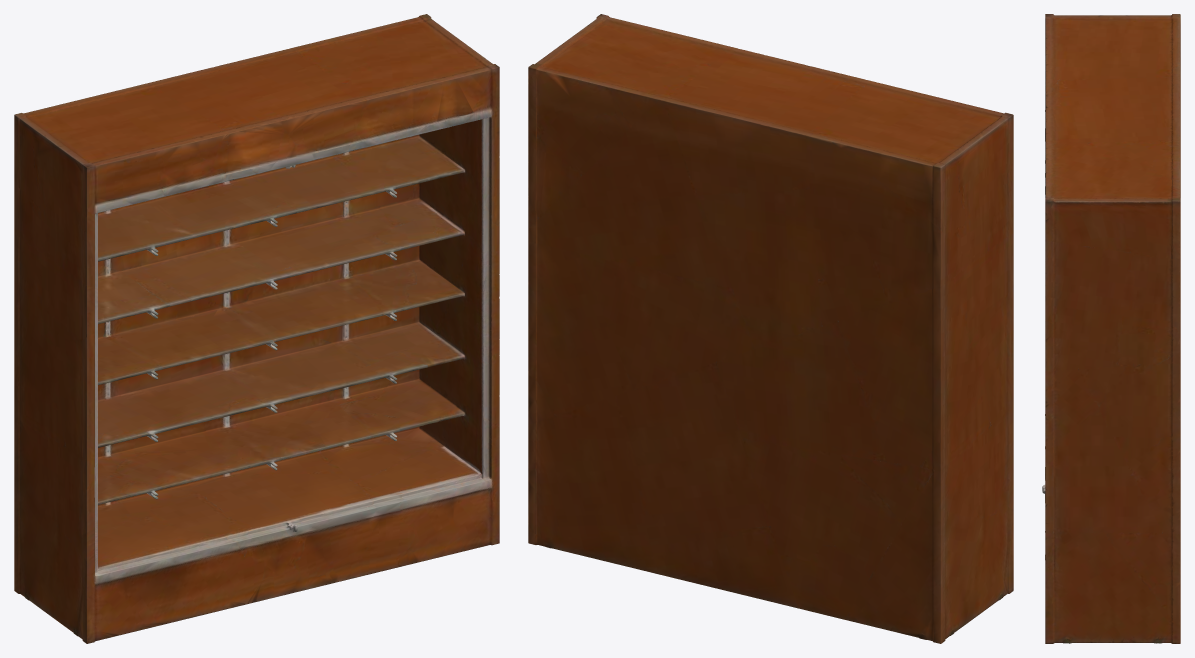
Rendered from armoire.glb.
3 views of the same model, side by side, from view 1: azimuth 30°, elevation 25°; view 2: azimuth 150°, elevation 25°; view 3: azimuth 270°, elevation 25° (orthographic). The views are drawn at different scales.
Bounding box in the file's own units: 1.72 × 1.9 × 0.5361.
1 material, 1 textured.
